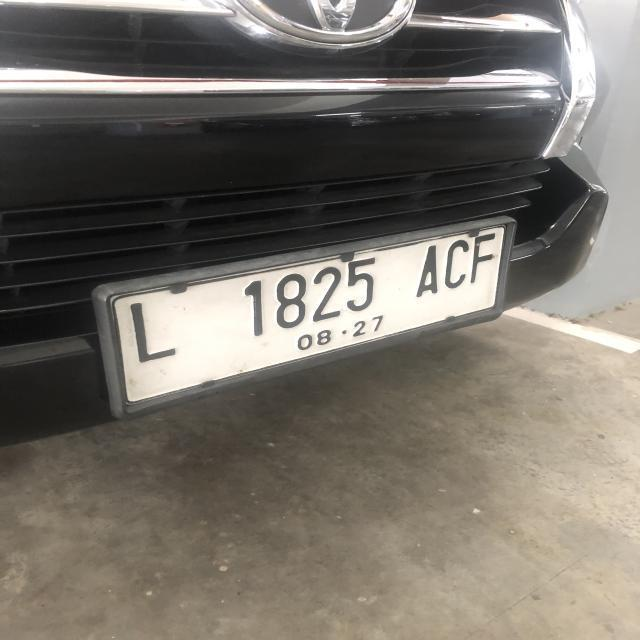1: (242, 282, 270, 338)
2: (312, 266, 346, 324)
5: (347, 260, 377, 313)
8: (269, 274, 308, 329)
A: (418, 244, 441, 295)
C: (444, 239, 468, 290)
F: (470, 232, 496, 288)
L: (128, 300, 184, 368)
